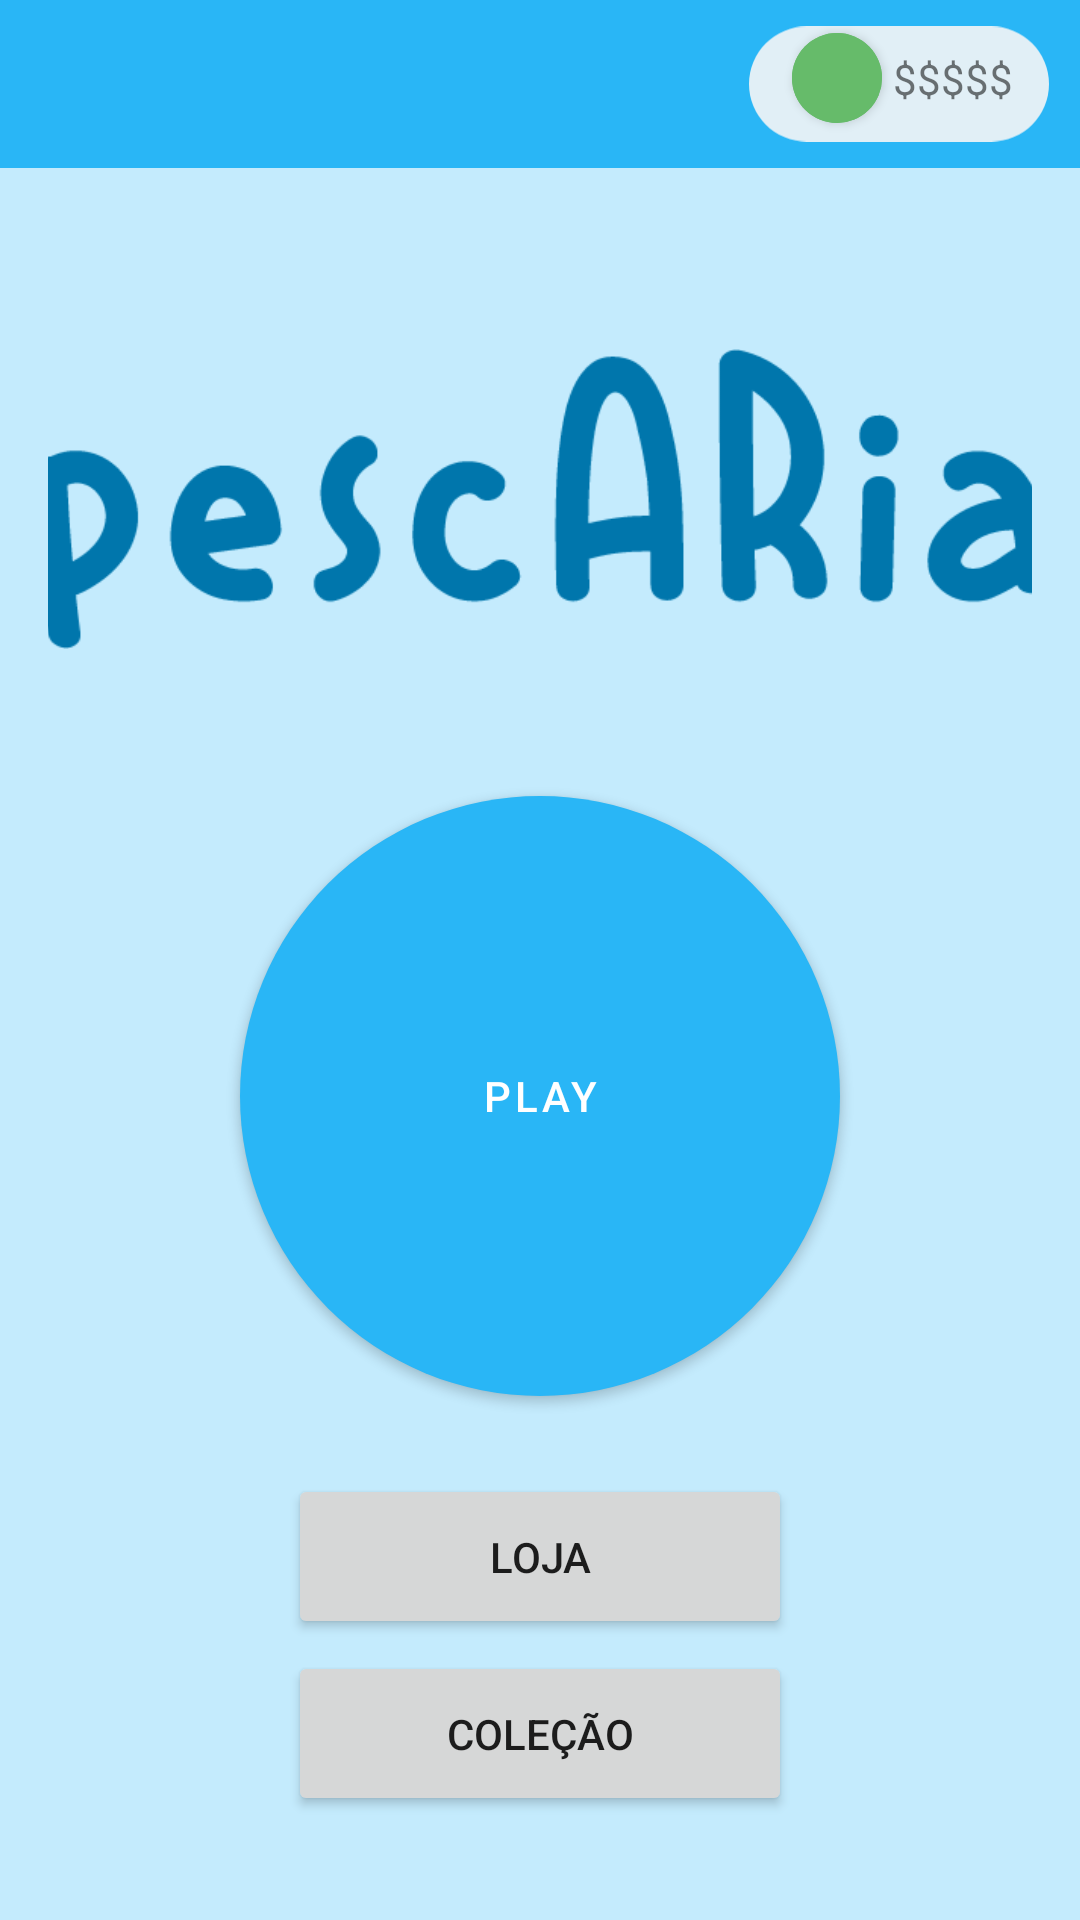

Icons on this 1080w x 1920h Android screen, each with the point to tap as point (x, y):
moneyfield: point (899, 84)
